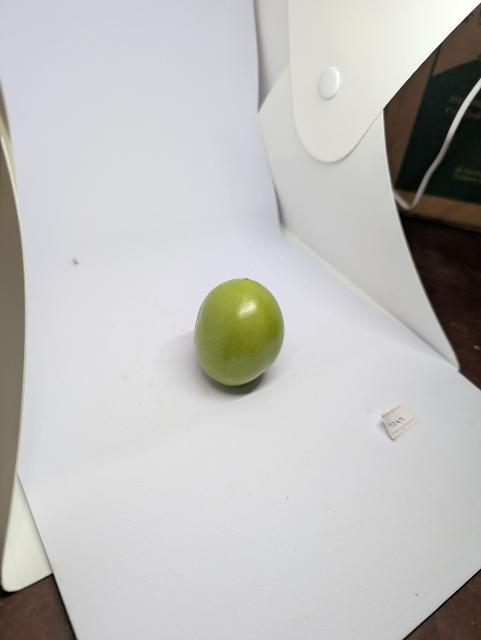green: (182, 264, 300, 403)
